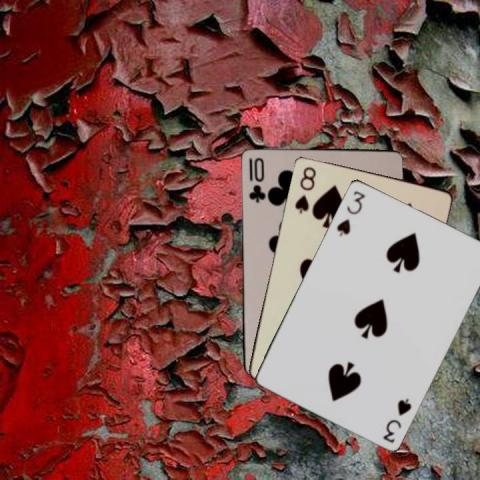10c: (245, 154, 266, 204)
3s: (333, 188, 366, 237), (380, 395, 413, 444)
8s: (292, 163, 318, 216)
